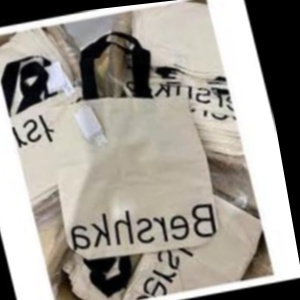bershka: (165, 91, 272, 299)
